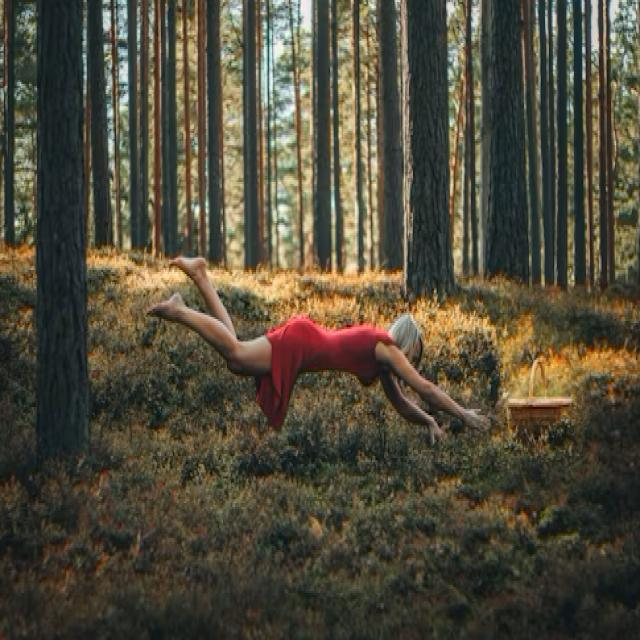Edited images: (139, 215, 498, 457)
